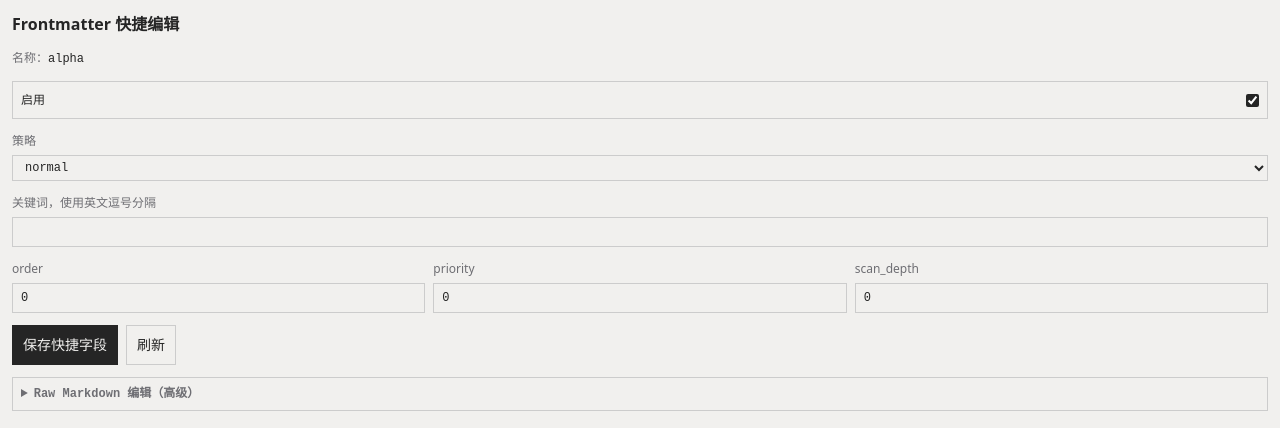
Scenario: 工具与技能编辑器 › 技能的「刷新」重读 Markdown
Check: the dropdown labelled "策略" shows "normal", box [12,155,1268,181]
Click the button "刷新": [151, 345] box [126,325,176,365]
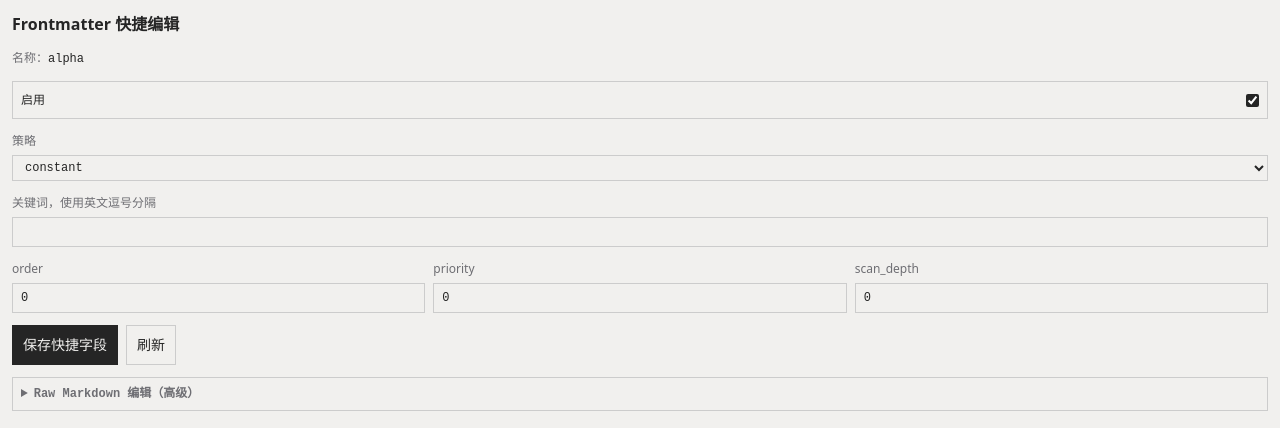
Check: the dropdown labelled "策略" shows "constant", box [12,155,1268,181]
